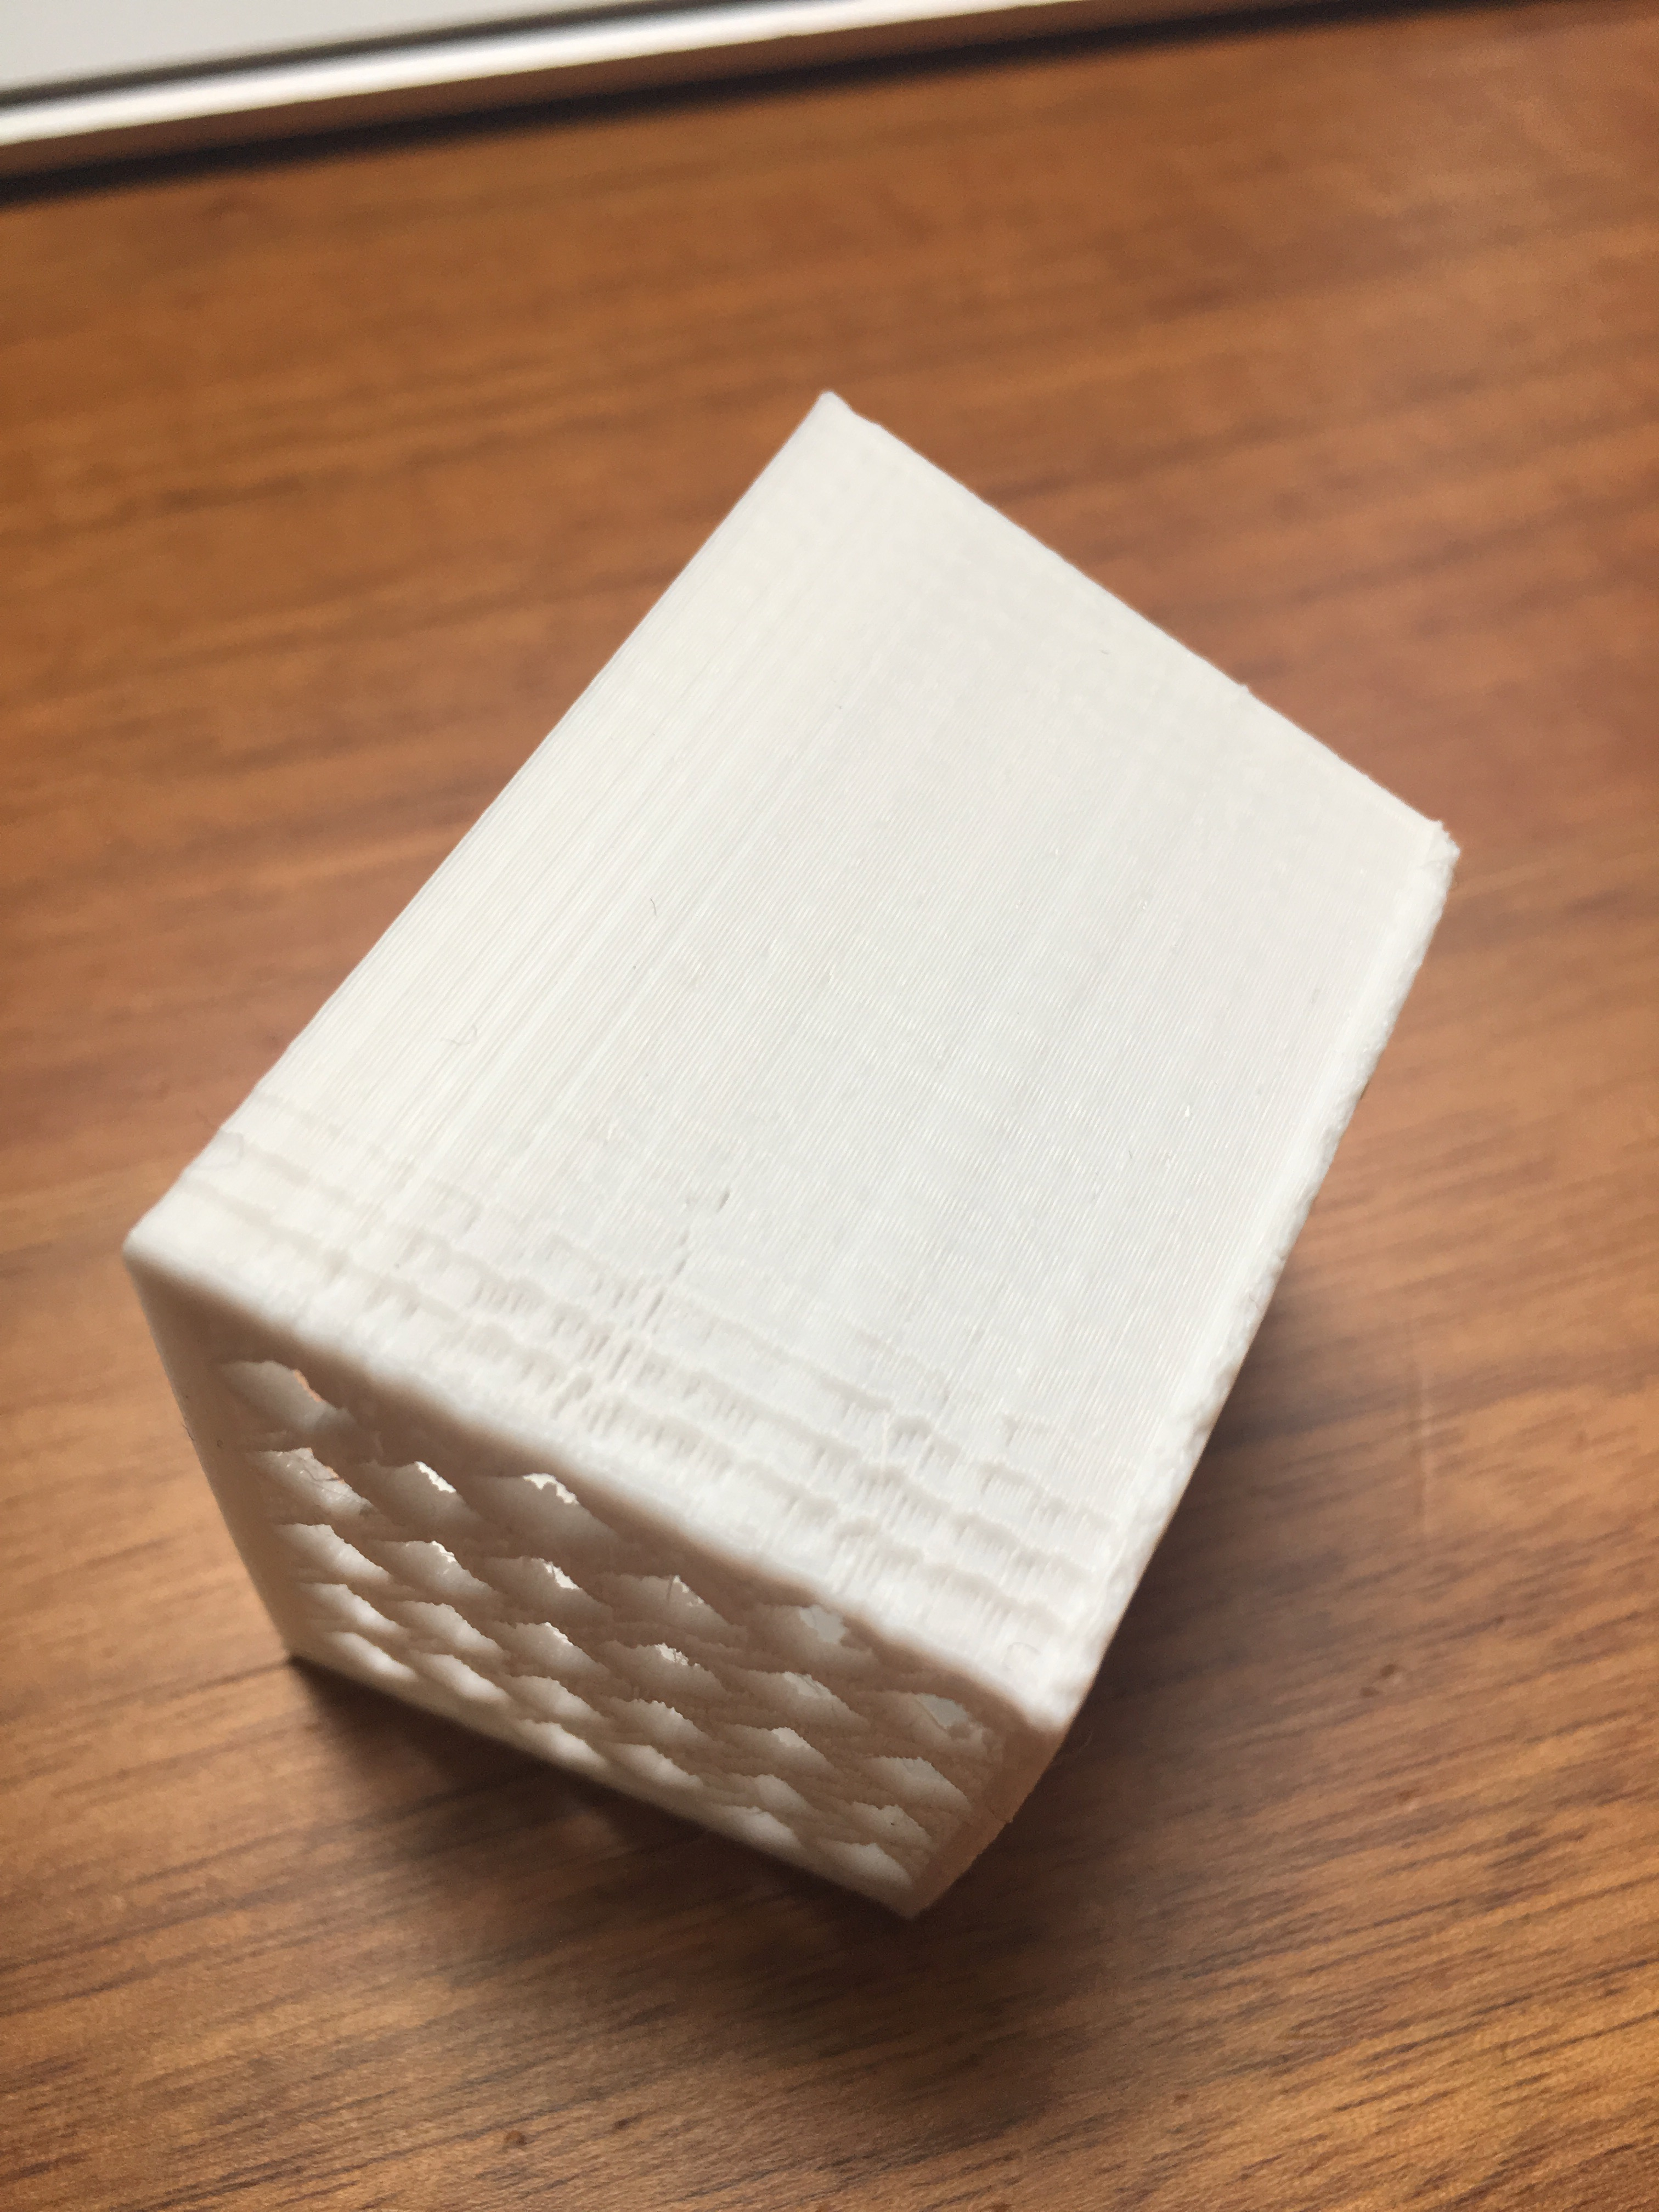3dpripples: (254, 1101, 587, 1414), (622, 1242, 896, 1581), (924, 1400, 1143, 1710), (444, 928, 708, 1068), (544, 775, 816, 899)
